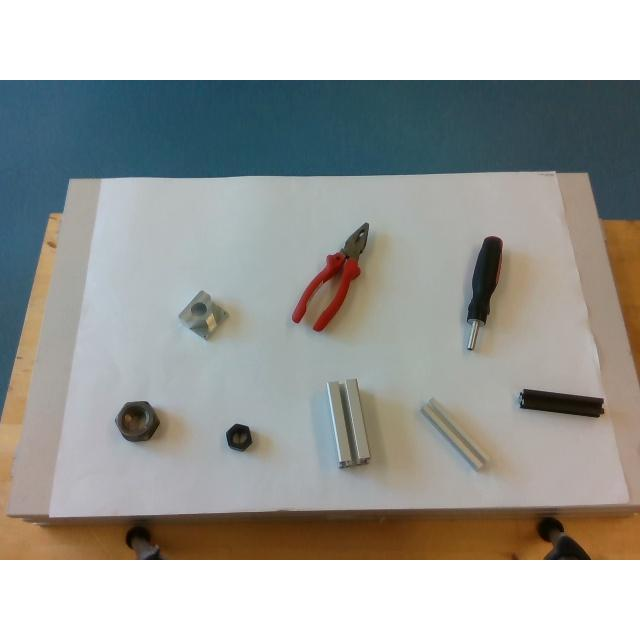F20_20_B: (518, 389, 602, 417)
F20_20_G: (421, 399, 487, 471)
M20: (226, 424, 252, 452)
M30: (116, 401, 158, 441)
S40_40_G: (326, 378, 370, 467)
